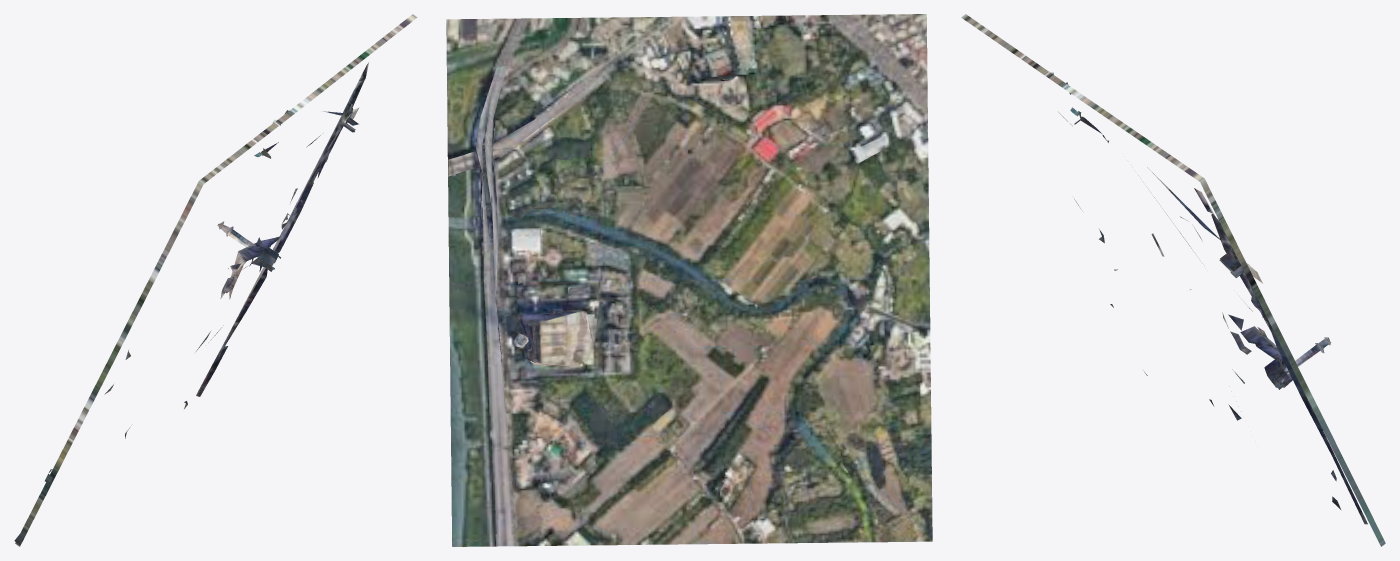
The picture shows the model from 3 angles, left to right: view 1: azimuth 30°, elevation 25°; view 2: azimuth 150°, elevation 25°; view 3: azimuth 270°, elevation 25°; orthographic projection. The views are drawn at different scales.
Size of the model in its own units: 1223 by 1113 by 1031.
Materials: 1 (1 with a texture image).
